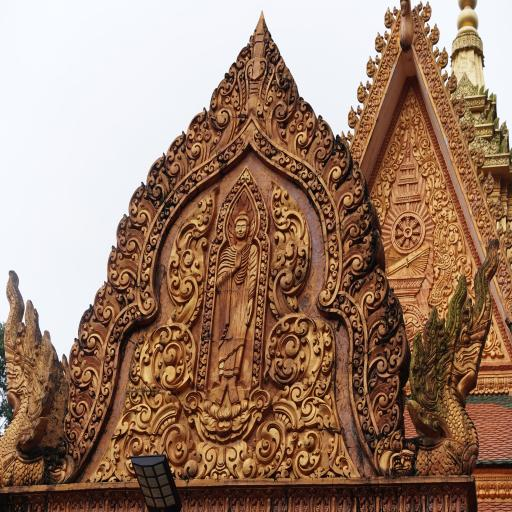hoa: (184, 386, 273, 444)
la: (168, 187, 218, 332), (268, 178, 313, 320), (263, 315, 318, 385), (143, 327, 198, 392), (342, 226, 384, 282), (364, 290, 406, 343), (368, 324, 406, 378), (250, 418, 286, 475), (185, 108, 218, 170), (331, 162, 371, 212), (66, 338, 102, 392), (340, 196, 381, 241), (123, 182, 158, 234), (320, 135, 352, 190), (289, 95, 316, 160), (112, 211, 147, 261), (104, 242, 138, 292), (357, 264, 390, 314), (161, 130, 192, 183), (159, 421, 195, 466), (75, 307, 107, 357), (144, 152, 173, 206), (184, 438, 218, 481), (312, 111, 336, 171), (266, 88, 291, 144), (293, 430, 321, 479), (300, 396, 338, 432), (410, 112, 438, 160), (271, 387, 303, 429), (434, 218, 467, 258), (210, 90, 238, 136), (382, 121, 409, 168), (424, 172, 452, 217), (370, 372, 404, 408), (116, 402, 152, 436), (93, 281, 119, 328), (66, 380, 96, 420), (226, 441, 256, 480), (374, 429, 403, 467), (371, 178, 392, 226), (376, 400, 402, 435), (274, 53, 298, 90), (443, 483, 471, 512), (61, 408, 83, 444), (400, 90, 421, 126), (288, 377, 316, 403), (396, 485, 421, 512), (420, 484, 444, 512), (220, 63, 239, 98), (453, 253, 474, 284), (374, 485, 398, 512), (352, 484, 374, 512), (440, 111, 460, 141), (330, 486, 352, 512), (308, 486, 330, 512), (286, 486, 308, 512), (334, 452, 356, 478), (458, 162, 478, 190), (449, 136, 469, 164), (372, 70, 392, 98), (362, 95, 382, 123), (264, 488, 287, 512), (431, 87, 450, 116), (354, 120, 374, 147), (123, 489, 146, 512), (92, 459, 114, 483), (125, 431, 145, 457), (223, 488, 244, 512), (182, 488, 203, 512), (381, 44, 400, 70), (245, 488, 265, 512), (204, 488, 224, 512), (314, 373, 334, 397), (468, 188, 486, 214), (103, 490, 124, 512), (478, 214, 495, 241), (235, 42, 253, 67), (497, 270, 512, 299), (126, 382, 144, 406), (320, 346, 335, 374), (84, 491, 104, 512), (423, 64, 441, 87), (415, 40, 432, 64), (64, 492, 84, 512), (122, 306, 141, 327), (390, 20, 403, 50), (324, 270, 340, 294), (45, 493, 65, 512), (25, 493, 45, 512), (267, 40, 282, 65), (326, 251, 341, 275), (221, 144, 239, 164), (358, 407, 372, 432), (278, 458, 293, 481), (420, 160, 439, 178), (208, 154, 225, 174), (365, 425, 379, 449), (324, 210, 338, 234), (7, 494, 25, 512), (326, 233, 340, 256), (317, 288, 333, 308), (271, 147, 286, 168), (99, 374, 112, 398), (110, 318, 124, 340), (194, 165, 210, 184), (349, 145, 364, 165), (322, 325, 334, 350), (286, 430, 298, 455), (326, 435, 340, 456), (354, 386, 366, 410), (95, 395, 107, 419), (129, 360, 141, 384), (172, 184, 185, 206), (154, 210, 168, 230), (352, 364, 364, 387), (349, 306, 362, 327), (149, 226, 162, 247), (381, 167, 397, 184), (414, 16, 424, 43), (320, 196, 334, 215), (353, 325, 365, 347), (106, 336, 118, 358), (103, 356, 115, 378), (339, 295, 352, 315), (285, 155, 298, 175), (87, 415, 100, 435), (353, 344, 364, 367), (80, 433, 92, 454), (184, 174, 196, 194), (142, 245, 154, 265), (116, 288, 128, 308), (314, 184, 327, 202), (297, 161, 308, 182), (134, 337, 144, 360), (260, 139, 272, 157), (163, 200, 175, 217), (140, 263, 150, 283), (307, 172, 318, 190), (126, 286, 138, 302), (140, 282, 150, 298), (496, 222, 504, 240), (196, 376, 205, 391), (0, 493, 7, 512), (256, 195, 264, 210), (257, 292, 265, 307), (197, 363, 206, 376), (205, 284, 214, 297), (211, 238, 219, 252), (261, 234, 268, 250), (255, 324, 263, 338), (203, 308, 212, 320), (199, 351, 207, 364), (202, 318, 210, 331), (207, 273, 215, 286), (258, 227, 266, 240), (258, 281, 266, 294), (254, 336, 262, 349), (253, 348, 261, 361), (200, 341, 209, 352), (249, 178, 256, 192), (260, 216, 267, 230), (257, 302, 264, 316), (253, 359, 260, 373), (252, 374, 259, 388), (202, 330, 210, 342), (204, 296, 212, 308), (216, 229, 224, 241), (216, 217, 224, 229), (262, 246, 268, 262), (234, 179, 241, 192), (260, 271, 267, 284), (208, 261, 215, 273), (209, 250, 216, 262), (223, 196, 230, 208), (228, 188, 235, 200), (254, 186, 260, 200), (260, 205, 266, 219), (262, 259, 268, 273), (258, 293, 265, 305), (256, 314, 263, 326), (498, 156, 506, 165), (333, 298, 339, 310), (472, 97, 479, 107), (481, 126, 488, 136), (220, 207, 226, 218), (490, 157, 497, 166), (488, 125, 494, 135), (480, 97, 486, 106), (467, 99, 471, 107)
lua: (500, 223, 512, 258), (463, 117, 476, 149), (436, 43, 449, 74), (492, 197, 505, 226), (346, 104, 360, 130), (473, 144, 486, 172), (364, 54, 378, 79), (446, 68, 457, 99), (483, 170, 494, 200), (373, 30, 386, 55), (428, 23, 440, 50), (382, 7, 396, 30), (356, 80, 368, 106), (456, 92, 466, 122), (421, 0, 432, 27), (476, 168, 486, 184), (240, 170, 251, 184), (468, 143, 476, 158), (355, 102, 363, 116), (460, 119, 468, 133), (487, 196, 494, 212), (346, 130, 354, 143), (424, 22, 431, 36), (442, 68, 448, 84), (450, 94, 457, 107), (366, 77, 372, 92), (375, 52, 381, 67), (433, 44, 439, 59), (417, 0, 423, 14), (384, 29, 390, 41), (393, 4, 399, 16)
ran: (405, 240, 504, 476), (0, 264, 62, 491), (430, 246, 452, 306), (247, 53, 267, 108), (261, 61, 272, 108), (237, 58, 246, 110), (500, 135, 510, 154), (500, 119, 508, 135), (493, 115, 501, 130), (486, 109, 494, 124), (478, 84, 486, 94), (484, 87, 490, 99), (489, 90, 494, 102)
than: (214, 204, 257, 405)
